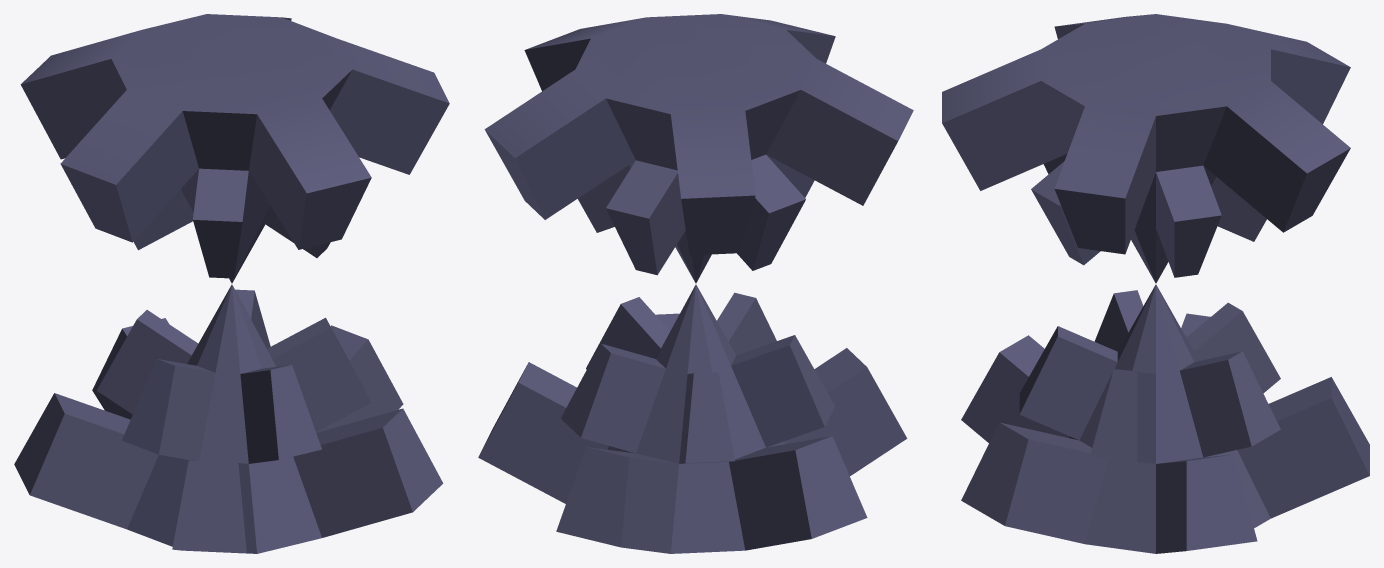
The model's file is gBForceFeild_01.fbx.
The picture shows the model from 3 angles, left to right: view 1: azimuth 30°, elevation 25°; view 2: azimuth 150°, elevation 25°; view 3: azimuth 270°, elevation 25°; orthographic projection.
Parts seen in each view (by area): view 1: forceFeildTop_01, forceFeildBottom_01; view 2: forceFeildTop_01, forceFeildBottom_01; view 3: forceFeildTop_01, forceFeildBottom_01.
Boxes of the visible parts, x1,y1,x2,y2 form: forceFeildTop_01: [20, 14, 449, 283]; forceFeildBottom_01: [14, 284, 443, 553]; forceFeildTop_01: [484, 14, 913, 283]; forceFeildBottom_01: [478, 284, 907, 553]; forceFeildTop_01: [942, 14, 1350, 283]; forceFeildBottom_01: [961, 284, 1369, 553].
Size of the model in its own units: 356 by 400 by 354.
